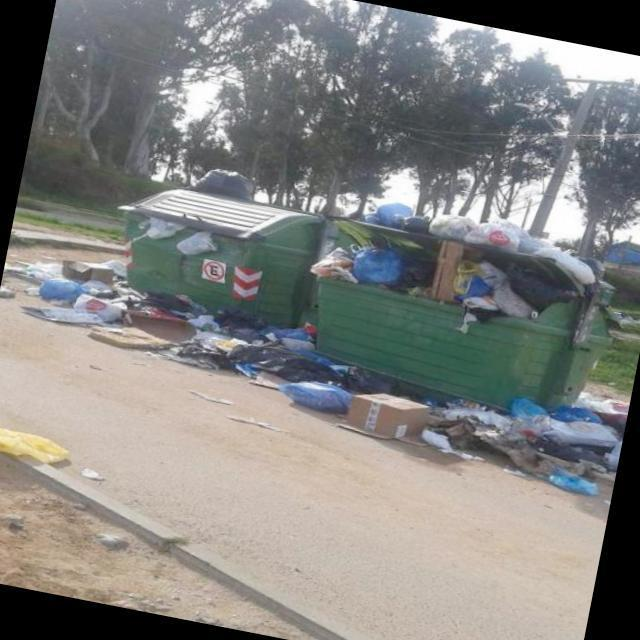garbage: (51, 302, 628, 492), (307, 218, 594, 344), (328, 181, 608, 271), (0, 235, 146, 348), (0, 411, 134, 512), (172, 143, 276, 216), (141, 208, 223, 262)
